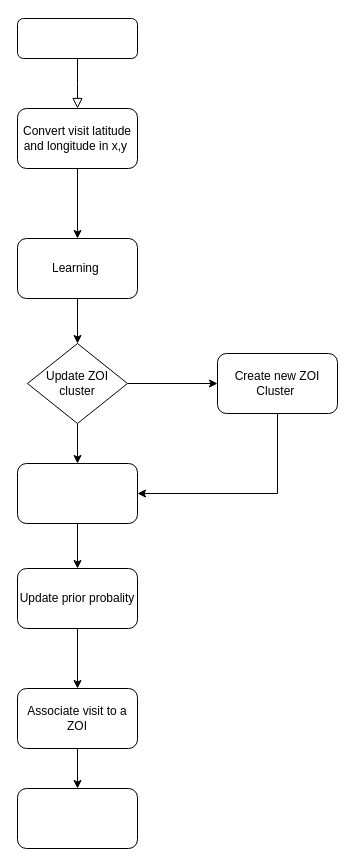
Image size: 355x866. Some labels were removed from this diagram. The centre of each missing label's shape, as x and y in pixels:
"List of ZOI in database and the visit" goes at point (77, 38).
"Removing spurious components" goes at point (77, 493).
"Update database" goes at point (77, 818).
